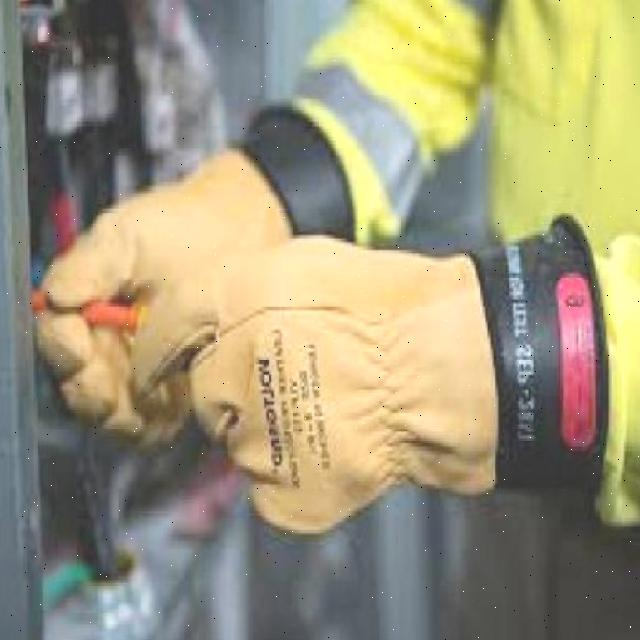Gloves: (37, 152, 497, 533)
